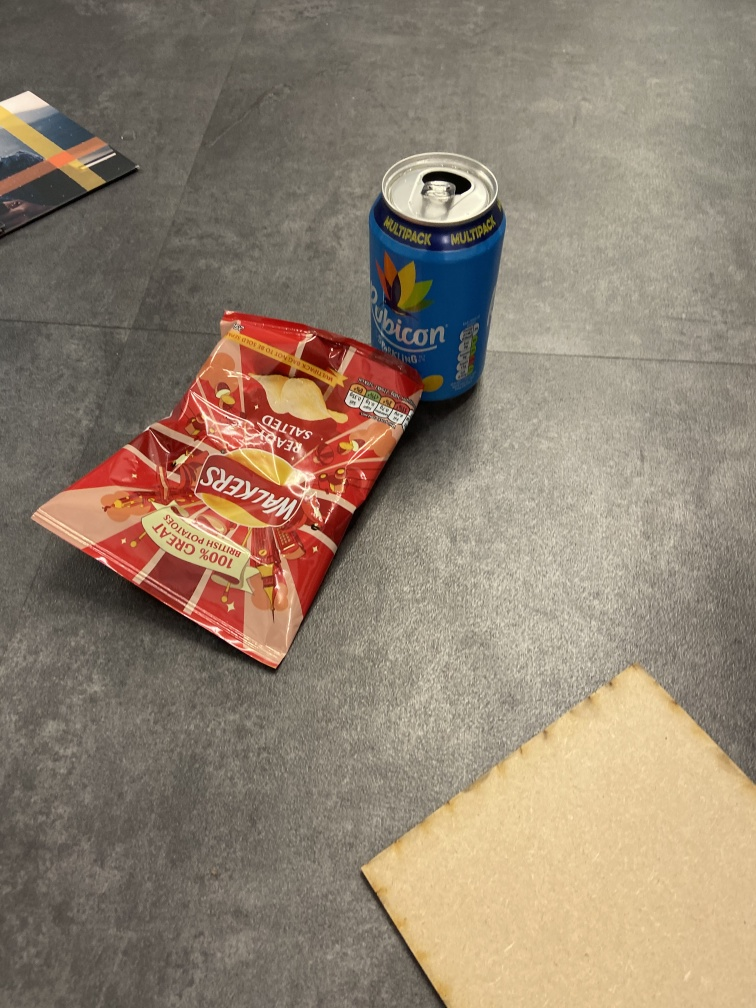can_blue: (366, 150, 507, 411)
